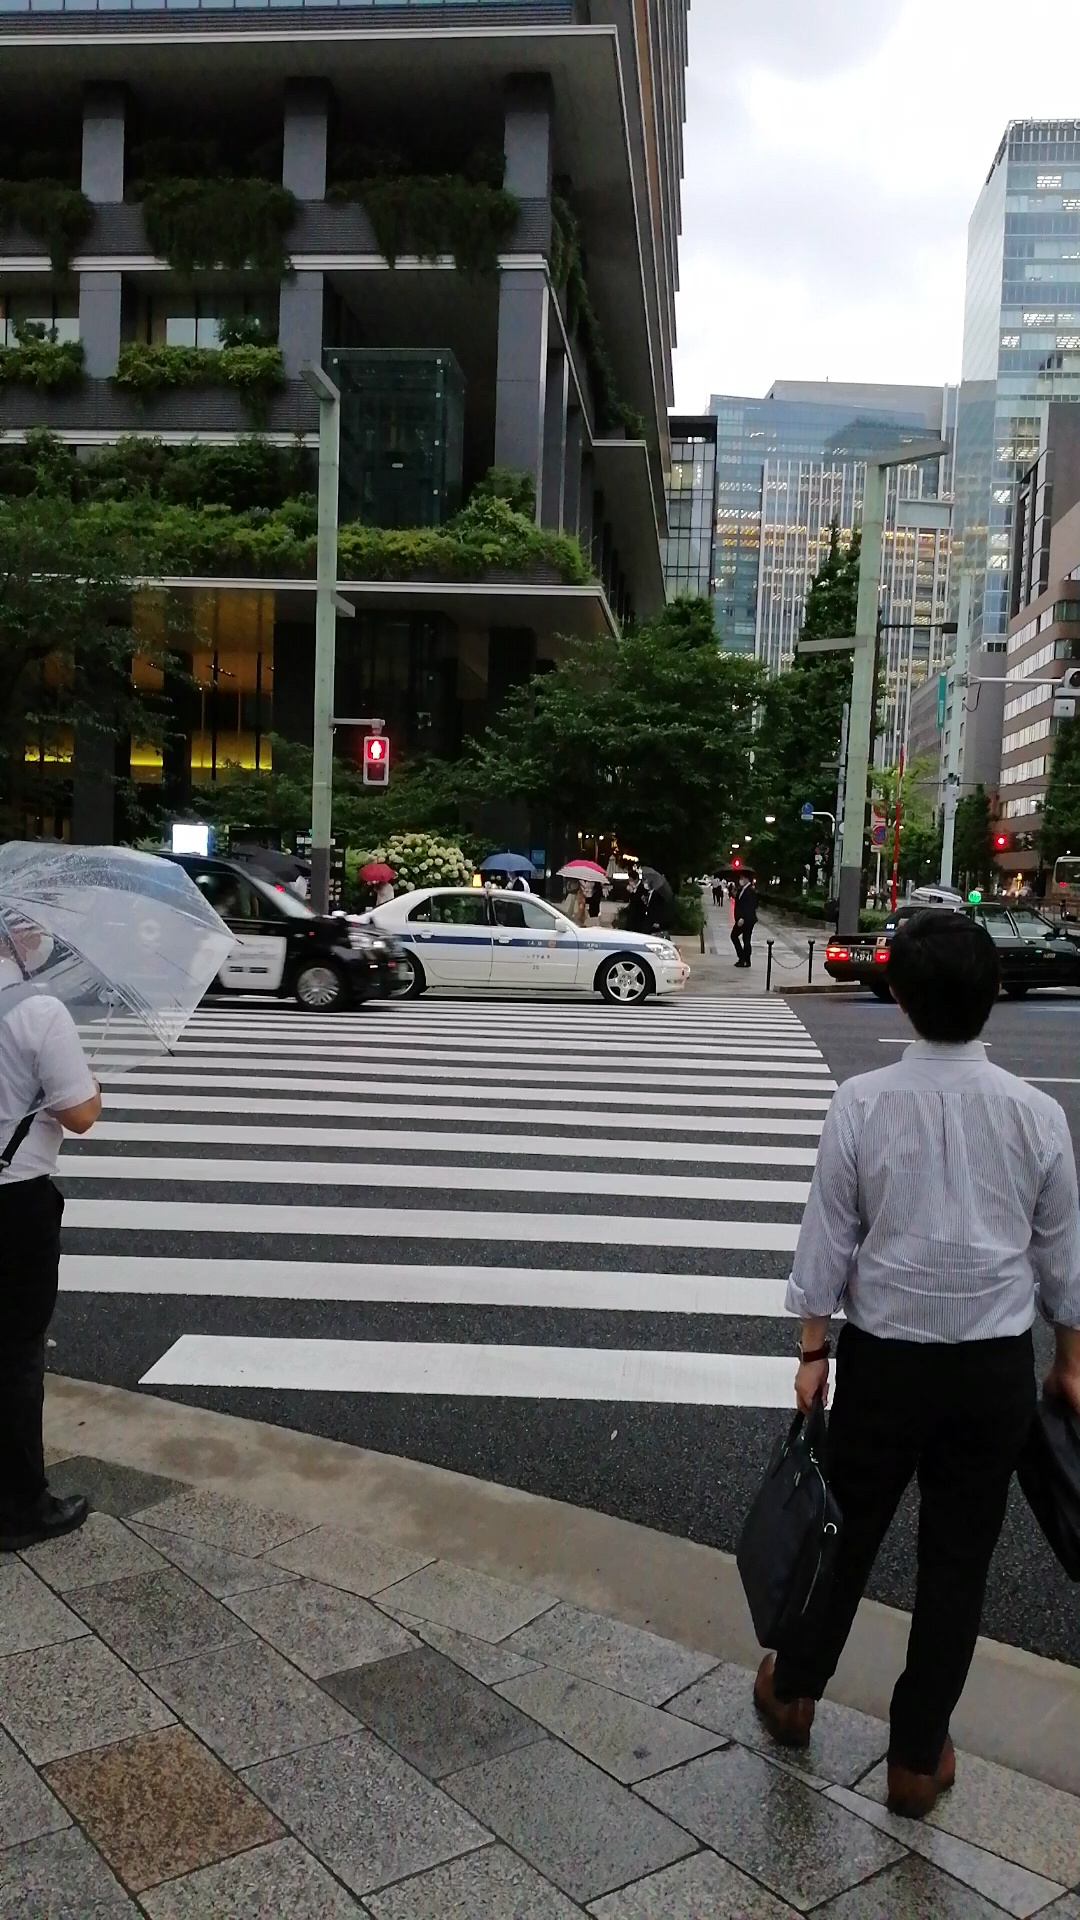red: (361, 733, 389, 786)
